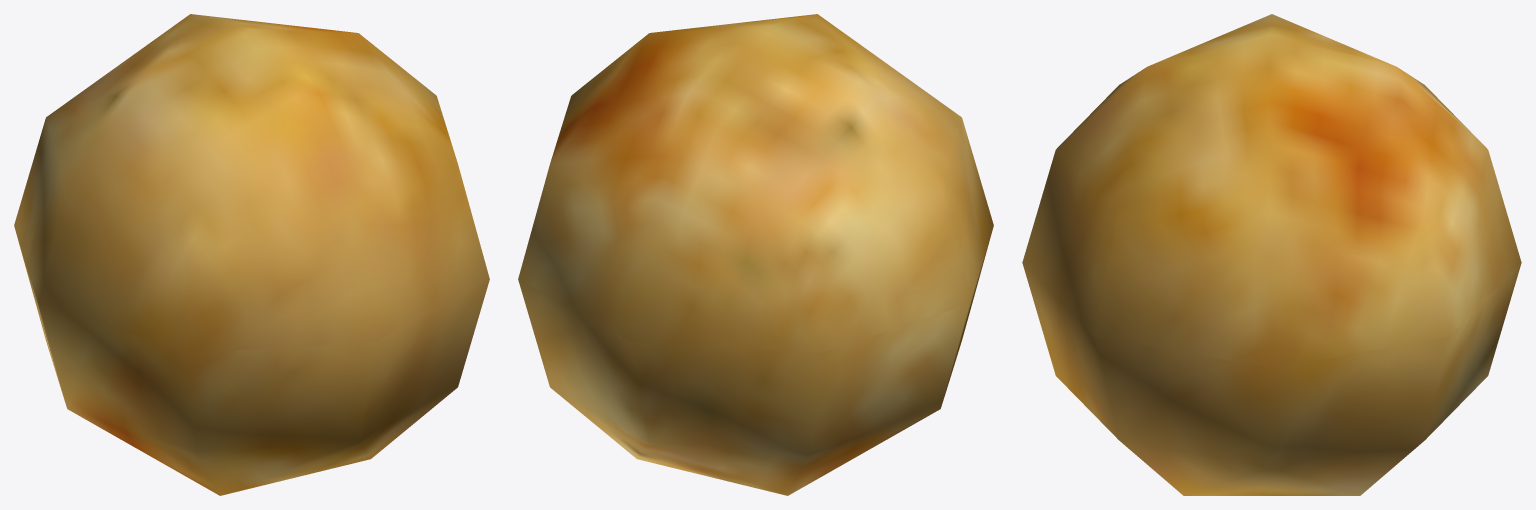
Rendered from jsf_Takoyaki.fbx.
3 views of the same model, side by side, from view 1: azimuth 30°, elevation 25°; view 2: azimuth 150°, elevation 25°; view 3: azimuth 270°, elevation 25° (orthographic).
Visible parts, largest first — view 1: jsf_Takoyaki; view 2: jsf_Takoyaki; view 3: jsf_Takoyaki.
Boxes of the visible parts, box(x1,y1,x2,y2) form: jsf_Takoyaki: box(14, 14, 489, 495); jsf_Takoyaki: box(518, 14, 993, 495); jsf_Takoyaki: box(1022, 14, 1521, 495).
Size of the model in its own units: 3.66 by 3.66 by 3.66.
